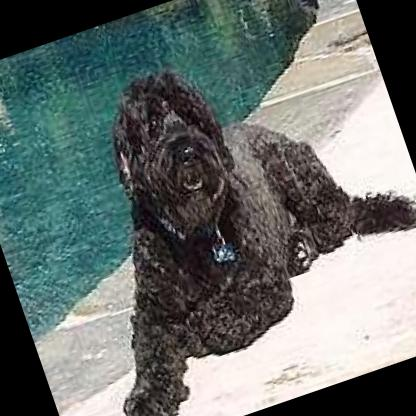affenpinscher: (17, 0, 416, 416)
